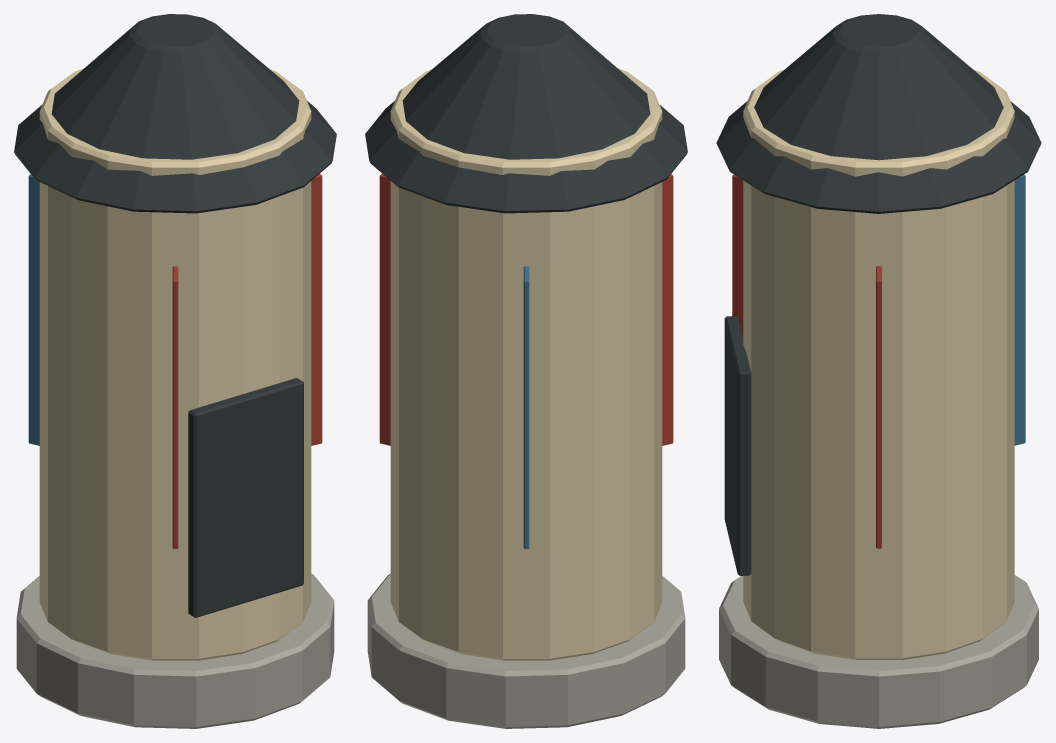
File: runtime.glb
3 views of the same model, side by side, from view 1: azimuth 30°, elevation 25°; view 2: azimuth 150°, elevation 25°; view 3: azimuth 270°, elevation 25° (orthographic).
Visible parts, largest first — view 1: eiffel-historic-information-v09_nocol; view 2: eiffel-historic-information-v09_nocol; view 3: eiffel-historic-information-v09_nocol.
Part boxes in pixels (x1,y1,x2,y2): eiffel-historic-information-v09_nocol: [14, 14, 336, 728]; eiffel-historic-information-v09_nocol: [365, 14, 687, 728]; eiffel-historic-information-v09_nocol: [716, 14, 1041, 728].
Size of the model in its own units: 1.45 by 3.06 by 1.43.
